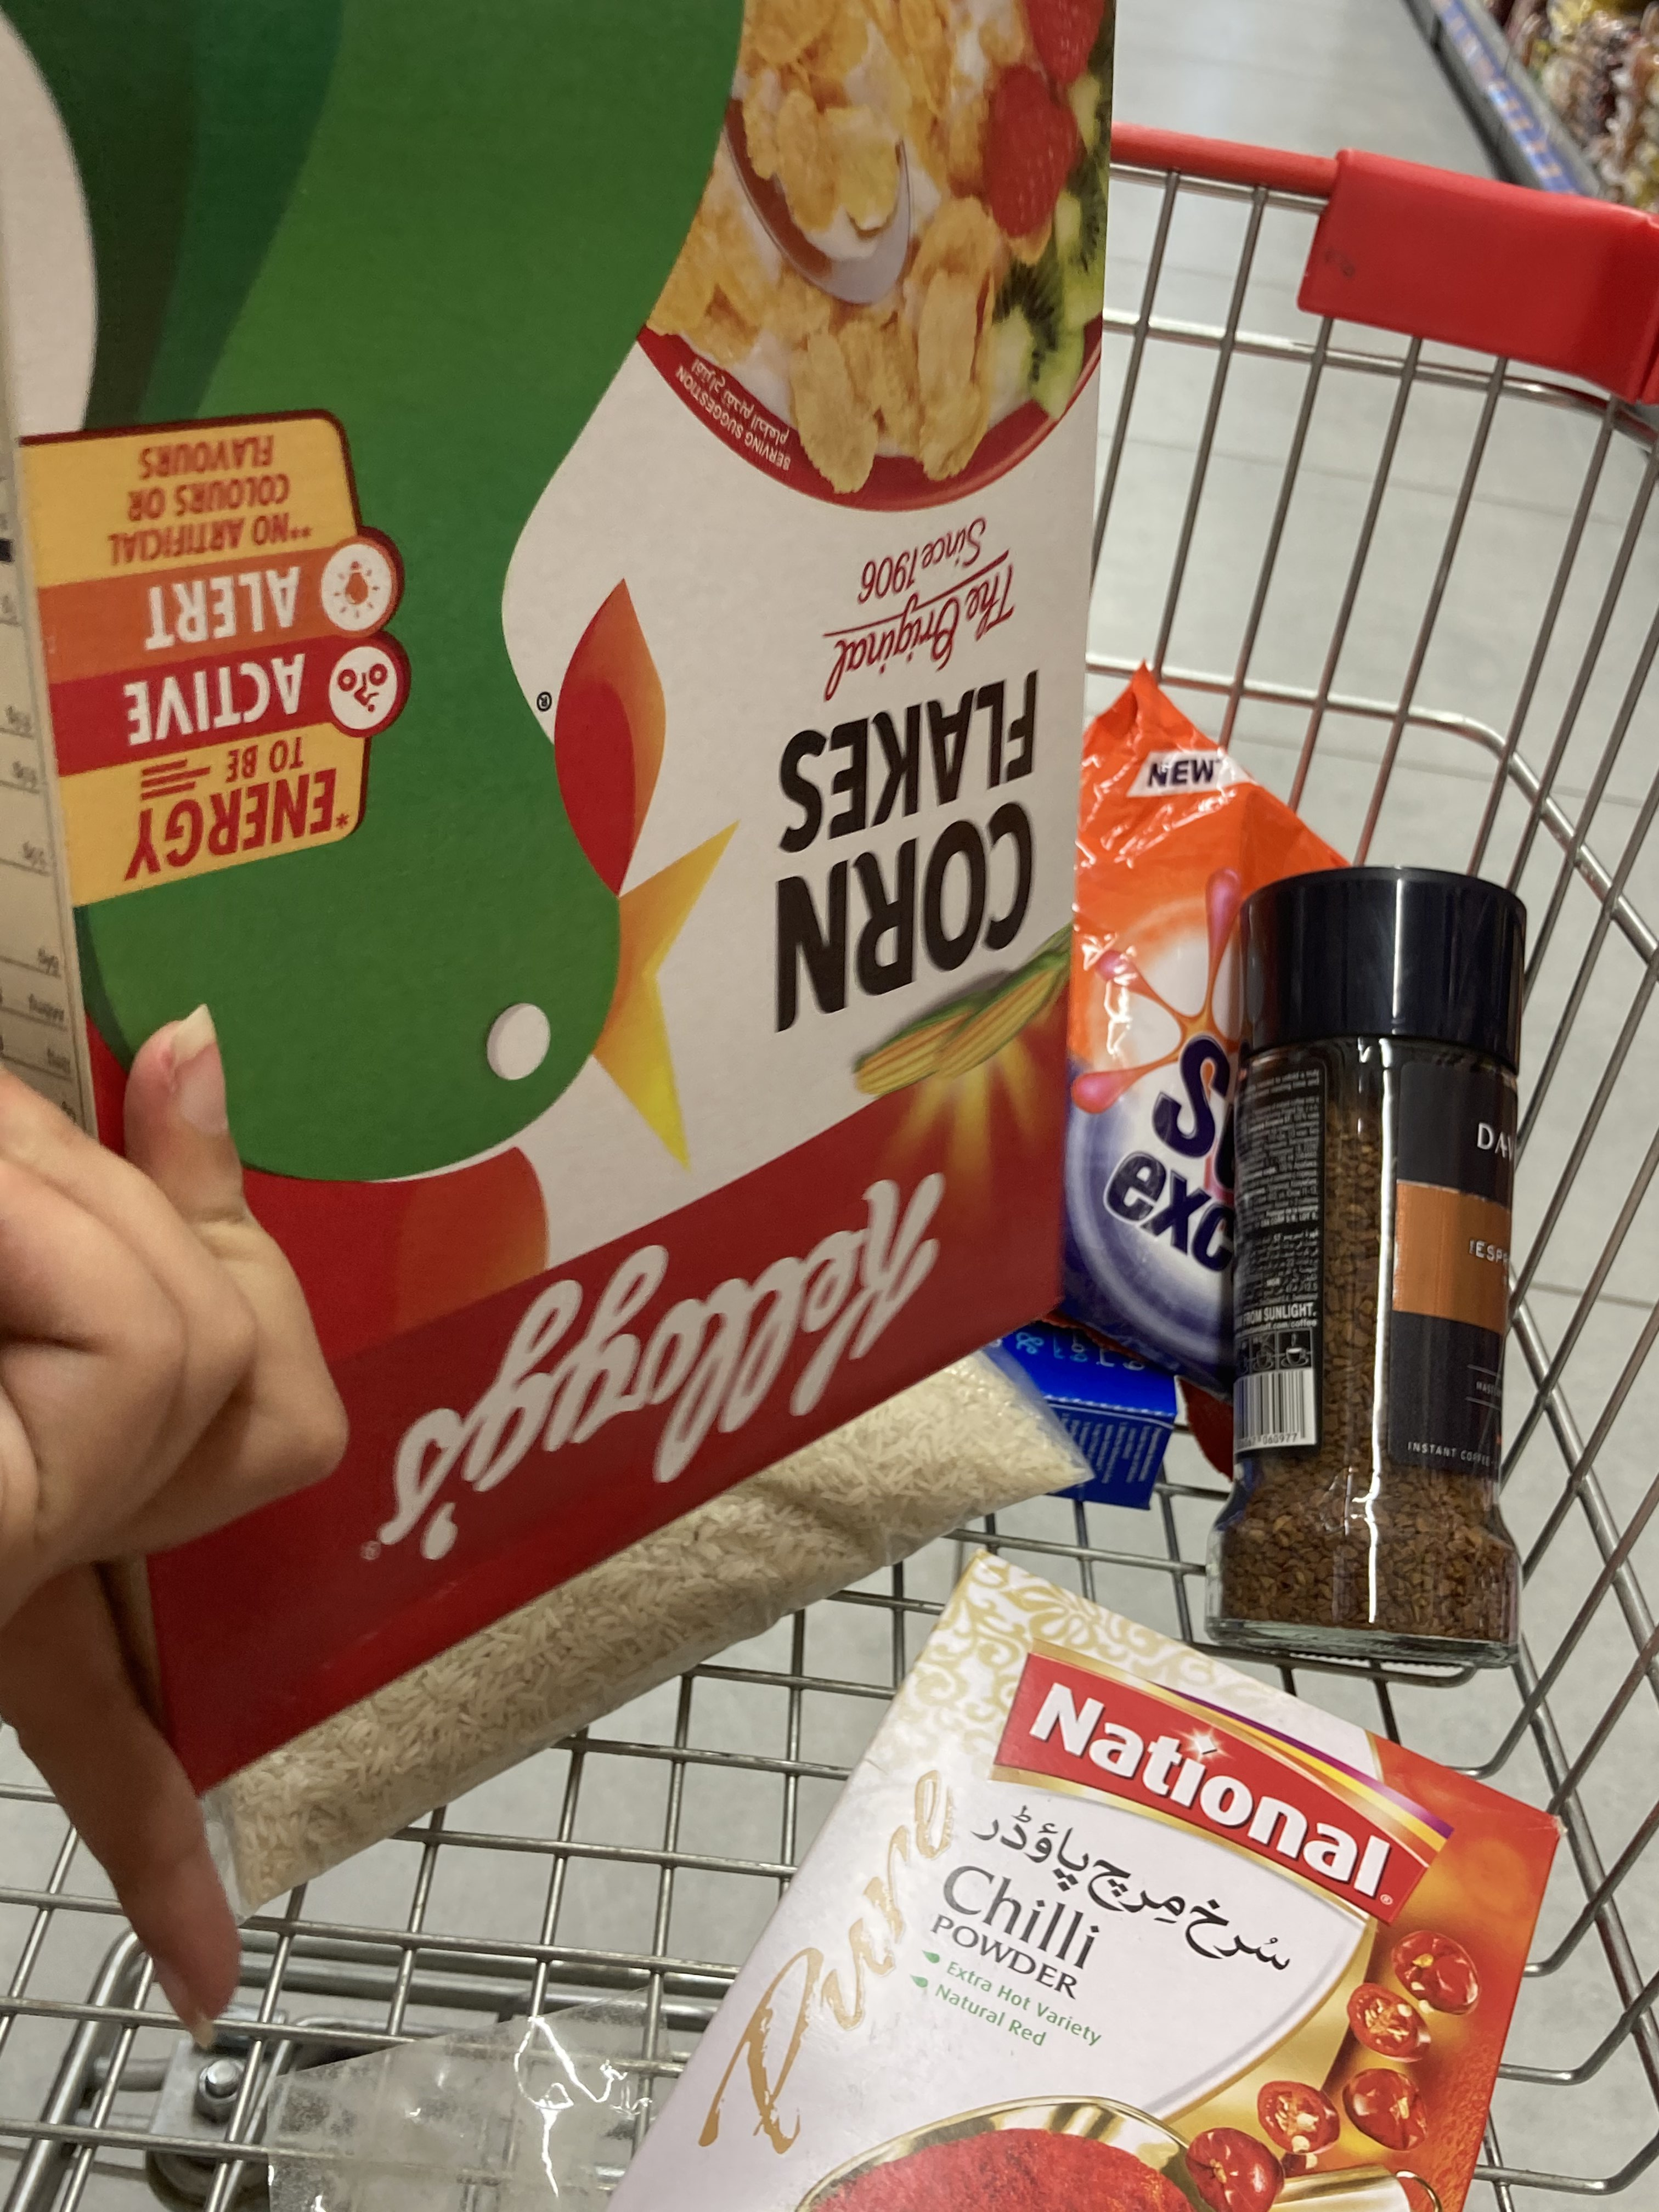Kellogg's Corn Flakes: (2, 0, 1122, 1918)
